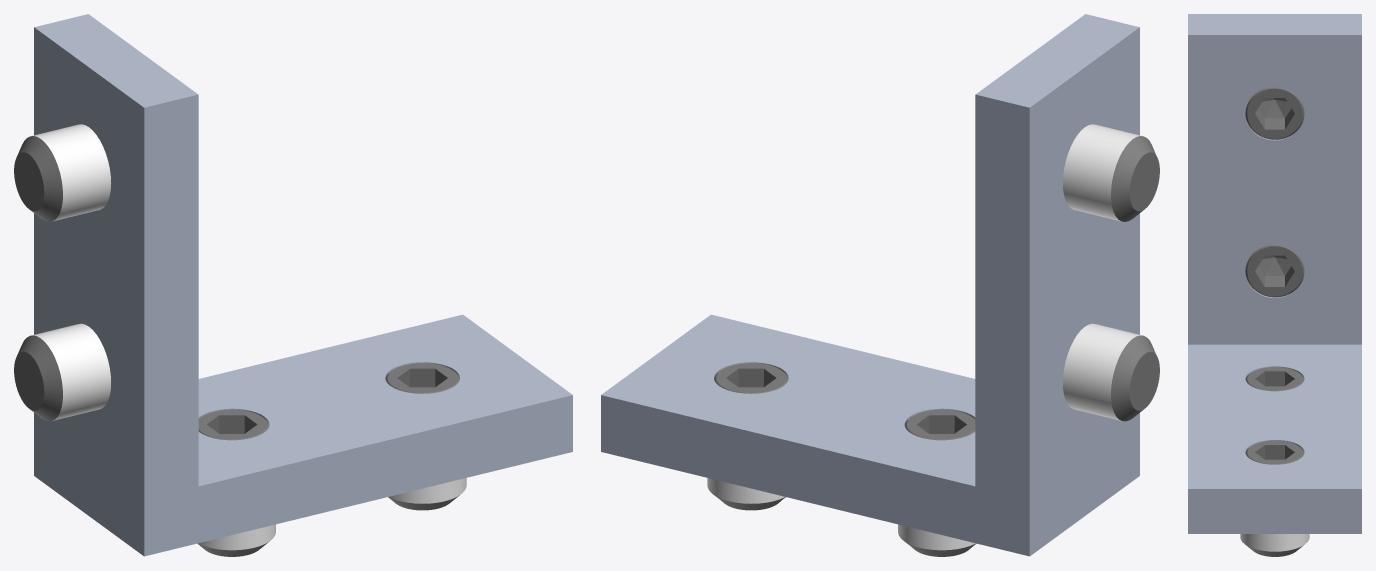
Rendered from TPHG-TPHG-4510-K20-ZP.glb.
The picture shows the model from 3 angles, left to right: view 1: azimuth 30°, elevation 25°; view 2: azimuth 150°, elevation 25°; view 3: azimuth 270°, elevation 25°; orthographic projection. The views are drawn at different scales.
Parts seen in each view (by area): view 1: NAUO1, NAUO4, NAUO5, NAUO3, NAUO2; view 2: NAUO1, NAUO4, NAUO5, NAUO3, NAUO2; view 3: NAUO1, NAUO5, NAUO4, NAUO3, NAUO2.
Part boxes in pixels (x1,y1,x2,y2): NAUO1: (34, 14, 572, 556); NAUO4: (14, 323, 111, 421); NAUO5: (14, 124, 111, 221); NAUO3: (385, 363, 466, 510); NAUO2: (197, 409, 275, 556); NAUO1: (601, 14, 1139, 556); NAUO4: (1062, 323, 1159, 421); NAUO5: (1062, 124, 1159, 221); NAUO3: (707, 363, 788, 510); NAUO2: (898, 409, 976, 556); NAUO1: (1188, 14, 1361, 533); NAUO5: (1245, 87, 1304, 139); NAUO4: (1245, 244, 1304, 297); NAUO3: (1240, 440, 1309, 556); NAUO2: (1245, 367, 1304, 391).
Bounding box in the file's own units: 0.0513 × 0.0513 × 0.02.
